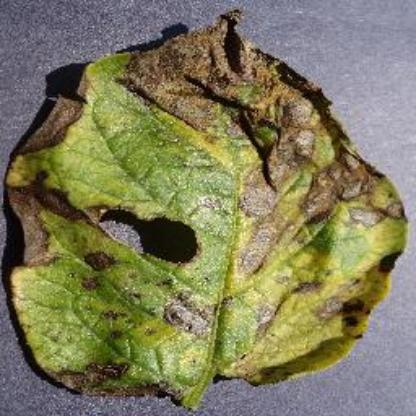Early-Blight: (7, 10, 415, 410)
